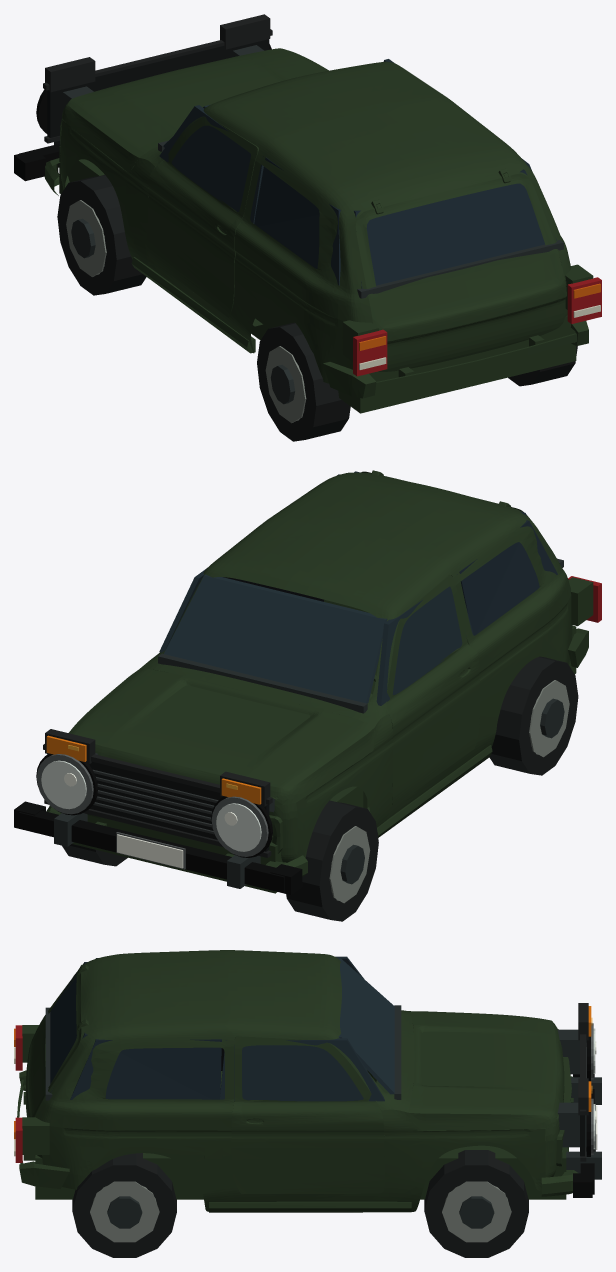
Rendered from niva_low_poly.obj.
3 views of the same model, one above another, from view 1: azimuth 30°, elevation 25°; view 2: azimuth 150°, elevation 25°; view 3: azimuth 270°, elevation 25° (orthographic). The views are drawn at different scales.
Visible parts, largest first — view 1: Niva_body_rebuilt_108, Niva_solid_rear_window, Niva_rubber, Niva_closed_underbody, Niva_body_rebuilt_110, Niva_solid_side_front_L, Niva_solid_side_rear_L, Niva_indicator_bezel, Niva_metal, Niva_grille, Niva_rear_lamps, Niva_lamp_socket (+3 smaller); view 2: Niva_body_rebuilt_108, Niva_solid_windscreen, Niva_rubber, Niva_lamp_socket, Niva_solid_side_front_L, Niva_solid_side_rear_L, Niva_grille, Niva_indicator_bezel, Niva_headlights, Niva_body_rebuilt_110, Niva_metal, Niva_grille_bar (+8 smaller); view 3: Niva_body_rebuilt_108, Niva_rubber, Niva_solid_side_front_R, Niva_solid_side_rear_R, Niva_metal, Niva_body_rebuilt_110, Niva_solid_windscreen, Niva_closed_underbody, Niva_solid_rear_window, Niva_axle_mount, Niva_headlight_mount, Niva_rear_lamp_mount (+6 smaller).
Boxes of the visible parts, x1,y1,x2,y2 form: Niva_body_rebuilt_108: (60,48,570,383); Niva_solid_rear_window: (354,169,557,288); Niva_rubber: (57,175,577,441); Niva_closed_underbody: (59,144,576,413); Niva_body_rebuilt_110: (44,125,588,398); Niva_solid_side_front_L: (159,105,263,223); Niva_solid_side_rear_L: (254,157,340,285); Niva_indicator_bezel: (43,14,272,143); Niva_metal: (66,200,306,423); Niva_grille: (47,39,269,137); Niva_rear_lamps: (353,277,601,376); Niva_lamp_socket: (14,44,271,181); Niva_body_rebuilt_108: (68,470,572,862); Niva_solid_windscreen: (164,574,387,703); Niva_rubber: (62,656,578,921); Niva_lamp_socket: (14,753,302,894); Niva_solid_side_front_L: (376,574,473,705); Niva_solid_side_rear_L: (459,520,557,635); Niva_grille: (47,754,269,851); Niva_indicator_bezel: (43,729,272,857); Niva_headlights: (41,760,261,851); Niva_body_rebuilt_110: (46,628,588,876); Niva_metal: (329,680,569,903); Niva_grille_bar: (93,769,218,834); Niva_body_rebuilt_108: (25,950,564,1211); Niva_rubber: (72,1150,528,1257); Niva_solid_side_front_R: (220,1038,384,1101); Niva_solid_side_rear_R: (70,1039,221,1099); Niva_metal: (90,1181,511,1242); Niva_body_rebuilt_110: (17,1057,578,1212); Niva_solid_windscreen: (338,958,394,1094); Niva_closed_underbody: (35,1066,566,1199); Niva_solid_rear_window: (50,962,87,1093); Niva_axle_mount: (107,1196,494,1228); Niva_headlight_mount: (557,1029,586,1147); Niva_rear_lamp_mount: (22,1025,49,1154).
Size of the model in its own units: 1.86 by 1.6 by 3.88.
